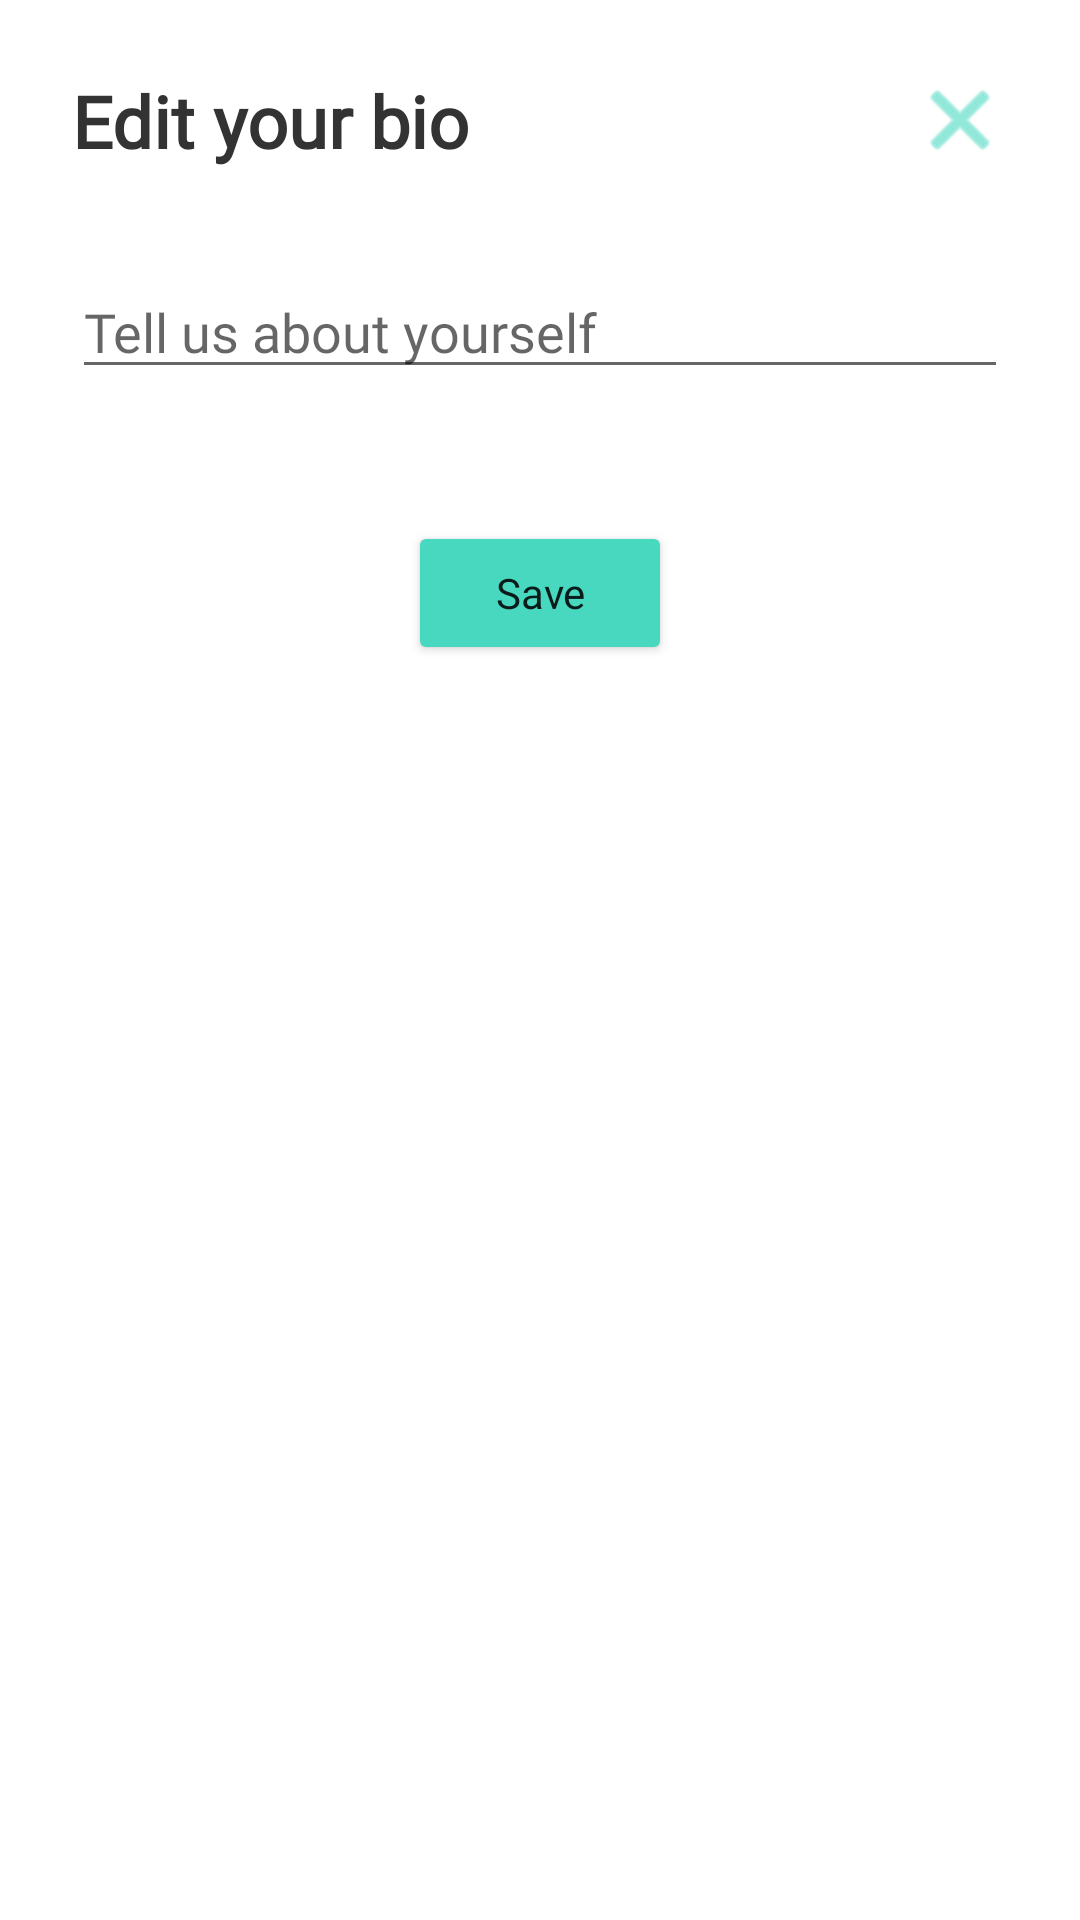

Where to tap for icons on this 1080px×1920px app screen, as [x,y]:
close clear cancel: [960,120]
